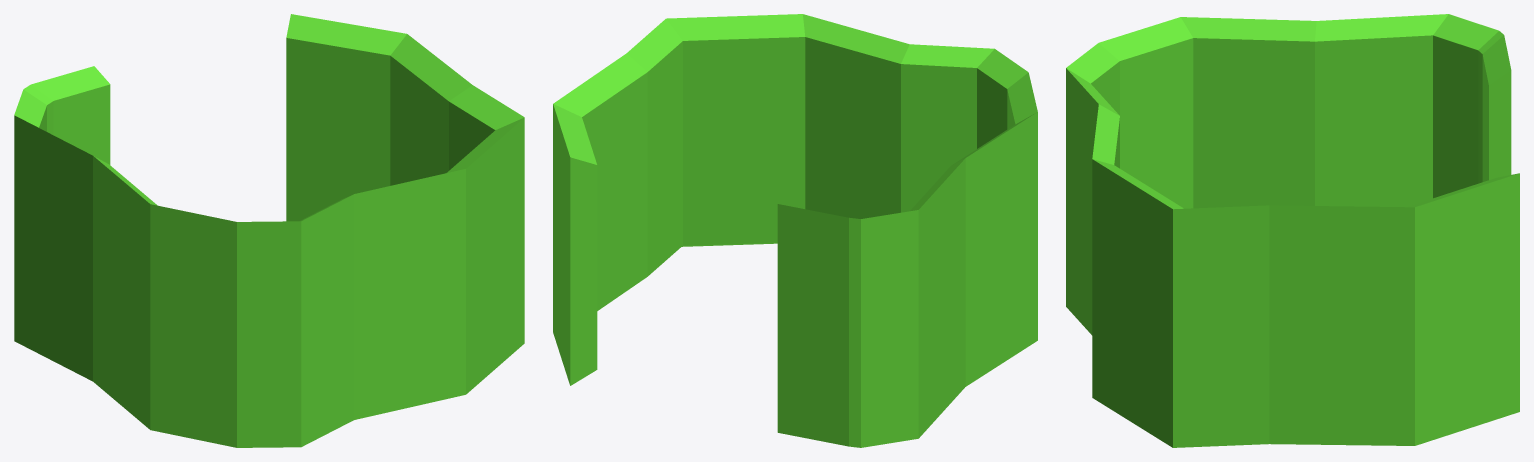
The model's file is InvWall8.fbx.
3 renders of one model, left to right at view 1: azimuth 30°, elevation 25°; view 2: azimuth 150°, elevation 25°; view 3: azimuth 270°, elevation 25°, orthographic. The views are drawn at different scales.
Parts seen in each view (by area): view 1: Island 8.001; view 2: Island 8.001; view 3: Island 8.001.
Boxes of the visible parts, <box> form: Island 8.001: <box>14,14,524,447</box>; Island 8.001: <box>553,14,1037,447</box>; Island 8.001: <box>1066,14,1519,447</box>.
Bounding box in the file's own units: 1968 × 1128 × 1927.
